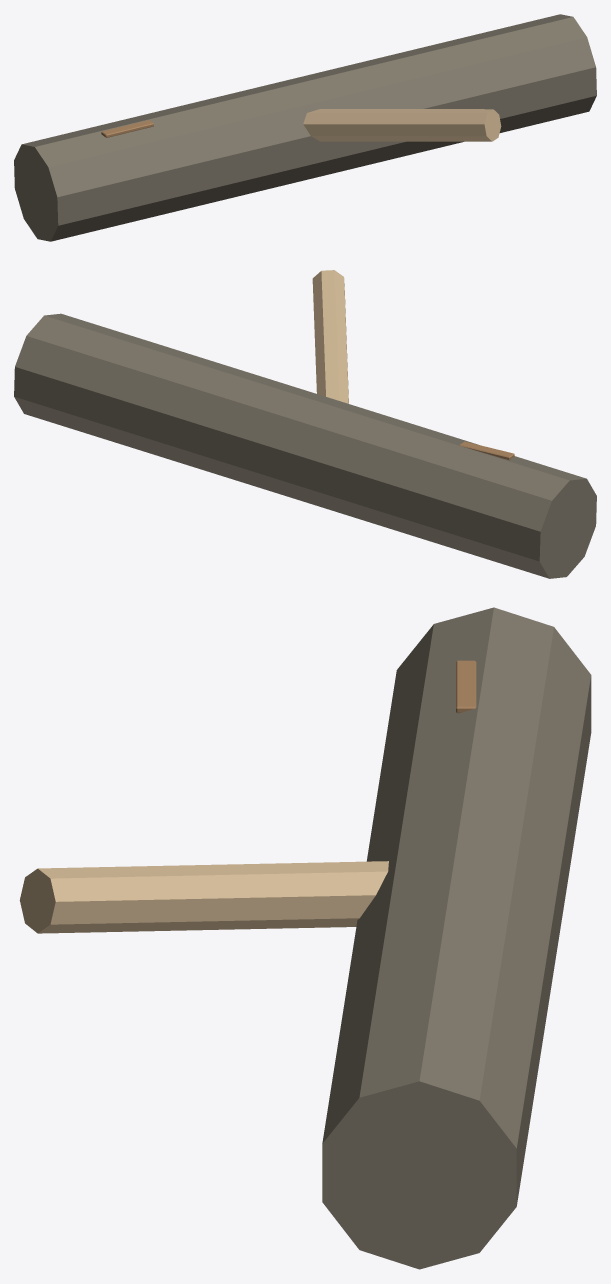
Rendered from driftwood.glb.
The picture shows the model from 3 angles, top to bottom: view 1: azimuth 30°, elevation 25°; view 2: azimuth 150°, elevation 25°; view 3: azimuth 270°, elevation 25°; orthographic projection. The views are drawn at different scales.
Parts seen in each view (by area): view 1: log, branch, wood_fissure; view 2: log, branch; view 3: log, branch, wood_fissure.
Part boxes in pixels (x1,y1,x2,y2): log: (14,14,596,241); branch: (303,109,501,141); wood_fissure: (101,120,153,137); log: (14,313,596,578); branch: (312,270,348,403); log: (322,607,591,1269); branch: (19,861,388,933); wood_fissure: (456,660,476,713).
Size of the model in its own units: 1.31 by 0.3021 by 0.6137.
